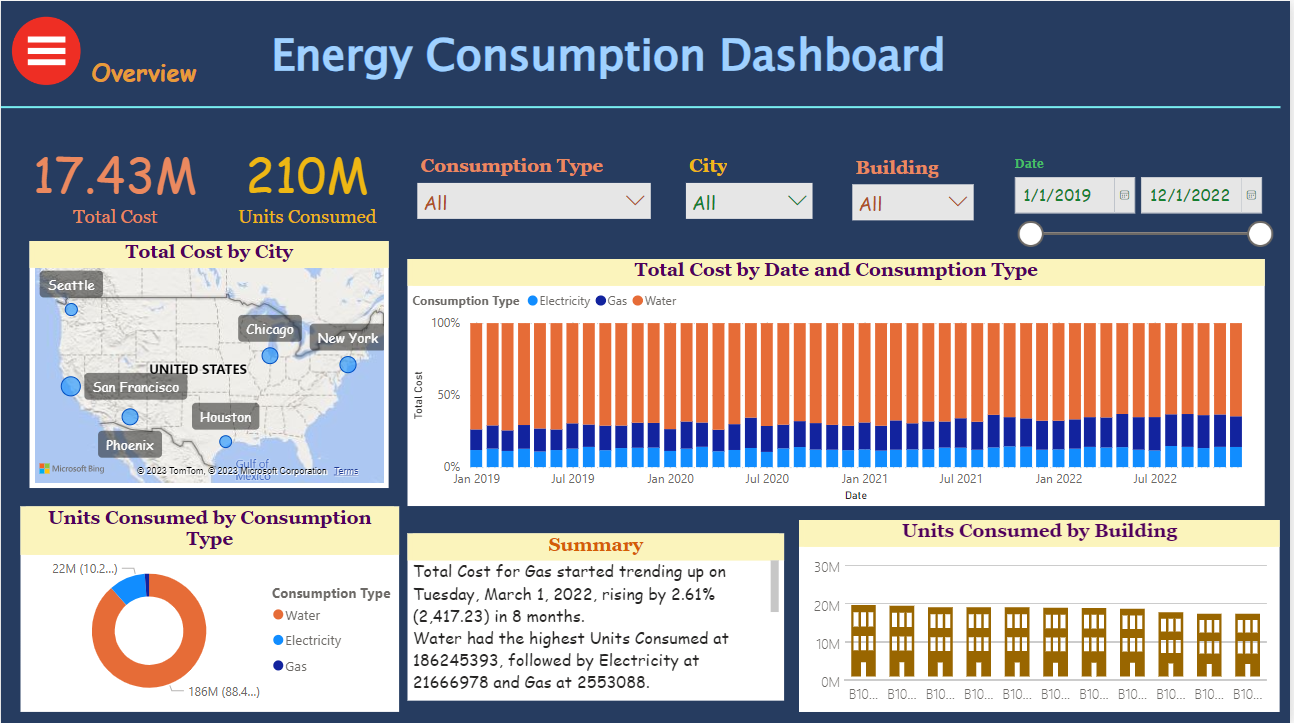

The page's visual inventory and layout, read from the dashboard file:
{"tool":"powerbi","page":{"name":"Overview","canvas":[1280,720],"ordinal":0},"visuals":[{"type":"shape","box":[0,86.8,1270.6,37.8],"z":0},{"type":"textbox","box":[264.3,17,711.7,88.7],"z":1000},{"type":"textbox","box":[85,47.2,122.7,58.5],"z":2000},{"type":"card","fields":{"Values":["Building Master.Total Cost"]},"box":[0,105.7,226.5,151],"z":3000},{"type":"card","fields":{"Values":["Building Master.Units Consumed"]},"box":[190.7,105.7,226.5,151],"z":4000},{"type":"slicer","fields":{"Values":["Energy Consumptions.Attribute"]},"box":[404,147.3,251.1,77.4],"z":5000},{"type":"slicer","fields":{"Values":["Energy Consumptions.Building"]},"box":[836.3,149.1,139.7,75.5],"z":6000},{"type":"slicer","fields":{"Values":["Building Master.City"]},"box":[670.2,147.3,145.4,75.5],"z":7000},{"type":"slicer","fields":{"Values":["Energy Consumptions.Date"]},"box":[993,149.1,277.5,107.6],"z":8000},{"type":"map","fields":{"Category":["Building Master.City"],"Size":["Building Master.Total Cost"]},"box":[28.3,237.9,356.8,245.4],"z":9000},{"type":"hundredPercentStackedColumnChart","fields":{"Y":["Building Master.Total Cost"],"Category":["Energy Consumptions.Date"],"Series":["Energy Consumptions.Consumption Type"]},"box":[404,256.8,851.4,245.4],"z":10000},{"type":"textbox","title":"Summary","box":[404,528.6,373.8,166.1],"z":11000},{"type":"donutChart","fields":{"Y":["Building Master.Units Consumed"],"Category":["Energy Consumptions.Consumption Type"]},"box":[18.9,502.2,375.7,203.9],"z":12000},{"type":"PBI_CV_73744D90_4DC9_4F18_8BA5_EE8FA5C98035","fields":{"Values":["Building Master.Units Consumed"],"Category":["Energy Consumptions.Building"]},"box":[792.9,515.4,477.6,190.7],"z":13000},{"type":"image","box":[4.1,8.1,81.2,83.2],"z":14000},{"type":"actionButton","box":[3.8,7.7,80.8,77],"z":15000}]}

Visuals, with their boxes in screenshot pixels (x1, y1, x2, y2), scaled from the page's 1280x720 canvas onto the 1294x723 screenshot:
shape: {"left": 0, "top": 87, "right": 1284, "bottom": 125}
textbox: {"left": 267, "top": 17, "right": 987, "bottom": 106}
textbox: {"left": 86, "top": 47, "right": 210, "bottom": 106}
card - Building Master.Total Cost: {"left": 0, "top": 106, "right": 229, "bottom": 258}
card - Building Master.Units Consumed: {"left": 193, "top": 106, "right": 422, "bottom": 258}
slicer - Energy Consumptions.Attribute: {"left": 408, "top": 148, "right": 662, "bottom": 226}
slicer - Energy Consumptions.Building: {"left": 845, "top": 150, "right": 987, "bottom": 226}
slicer - Building Master.City: {"left": 678, "top": 148, "right": 825, "bottom": 224}
slicer - Energy Consumptions.Date: {"left": 1004, "top": 150, "right": 1284, "bottom": 258}
map - Building Master.City x Building Master.Total Cost: {"left": 29, "top": 239, "right": 389, "bottom": 485}
hundredPercentStackedColumnChart - Building Master.Total Cost x Energy Consumptions.Date: {"left": 408, "top": 258, "right": 1269, "bottom": 504}
"Summary" textbox: {"left": 408, "top": 531, "right": 786, "bottom": 698}
donutChart - Building Master.Units Consumed x Energy Consumptions.Consumption Type: {"left": 19, "top": 504, "right": 399, "bottom": 709}
PBI_CV_73744D90_4DC9_4F18_8BA5_EE8FA5C98035 - Building Master.Units Consumed x Energy Consumptions.Building: {"left": 802, "top": 518, "right": 1284, "bottom": 709}
image: {"left": 4, "top": 8, "right": 86, "bottom": 92}
actionButton: {"left": 4, "top": 8, "right": 86, "bottom": 85}
